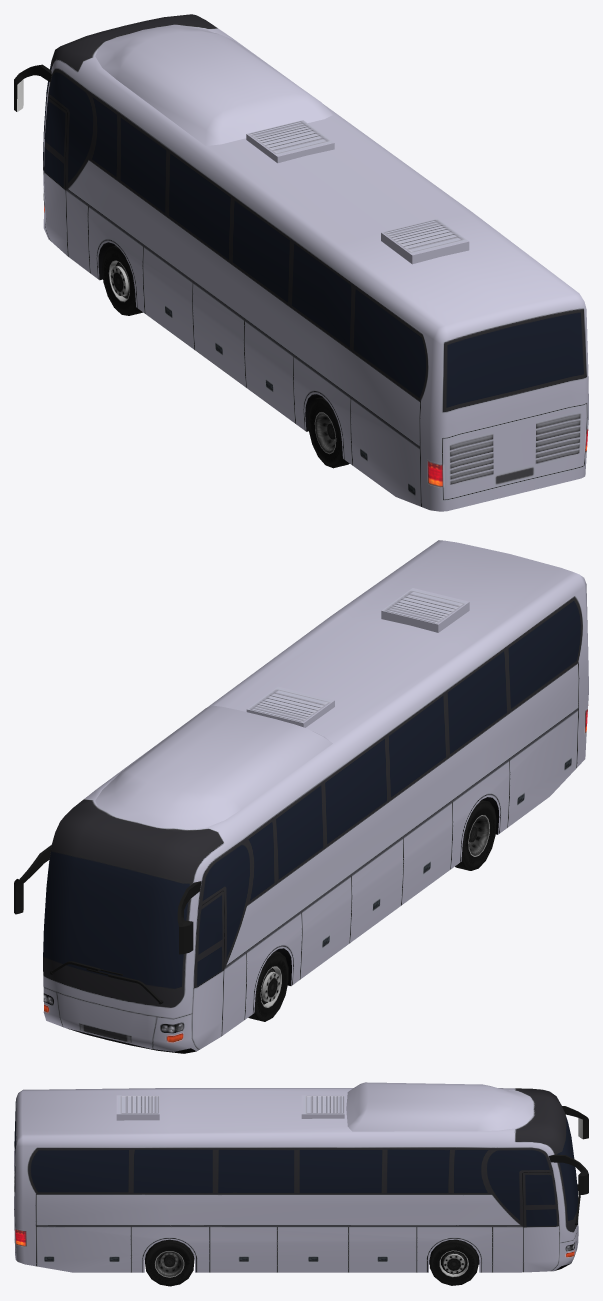
The model's file is City Bus Lowpoly3_White.FBX.
3 views of the same model, one above another, from view 1: azimuth 30°, elevation 25°; view 2: azimuth 150°, elevation 25°; view 3: azimuth 270°, elevation 25° (orthographic). The views are drawn at different scales.
Parts seen in each view (by area): view 1: City Bus Lowpoly3_White, City Bus Lowpoly3_White_Wheel_03, City Bus Lowpoly3_White_Wheel_02; view 2: City Bus Lowpoly3_White, City Bus Lowpoly3_White_Wheel_03, City Bus Lowpoly3_White_Wheel_02; view 3: City Bus Lowpoly3_White, City Bus Lowpoly3_White_Wheel_04, City Bus Lowpoly3_White_Wheel_01.
Boxes of the visible parts, bbox=[...] form: City Bus Lowpoly3_White: bbox=[14, 14, 588, 511]; City Bus Lowpoly3_White_Wheel_03: bbox=[308, 397, 349, 468]; City Bus Lowpoly3_White_Wheel_02: bbox=[102, 245, 142, 315]; City Bus Lowpoly3_White: bbox=[14, 540, 588, 1053]; City Bus Lowpoly3_White_Wheel_03: bbox=[455, 800, 496, 870]; City Bus Lowpoly3_White_Wheel_02: bbox=[248, 951, 288, 1021]; City Bus Lowpoly3_White: bbox=[14, 1082, 588, 1272]; City Bus Lowpoly3_White_Wheel_04: bbox=[145, 1239, 194, 1286]; City Bus Lowpoly3_White_Wheel_01: bbox=[430, 1239, 478, 1285].
Bounding box in the file's own units: 3.08 × 4.03 × 12.66.
